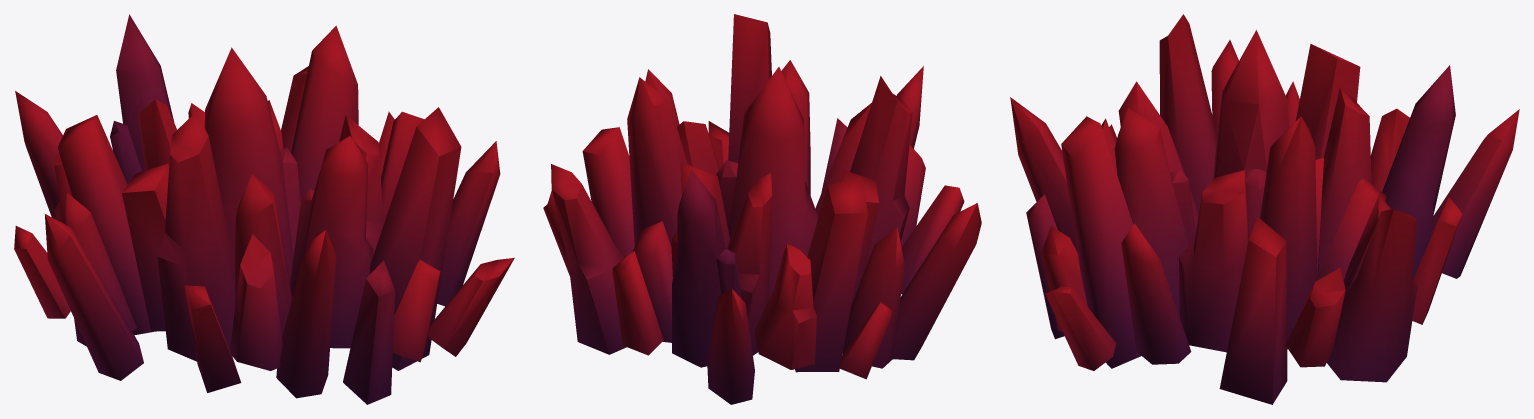
File: ZLP_Crystalk_B_2.FBX
The picture shows the model from 3 angles, left to right: view 1: azimuth 30°, elevation 25°; view 2: azimuth 150°, elevation 25°; view 3: azimuth 270°, elevation 25°; orthographic projection. The views are drawn at different scales.
Parts seen in each view (by area): view 1: ZLP_Crystalk_B_2; view 2: ZLP_Crystalk_B_2; view 3: ZLP_Crystalk_B_2.
Part boxes in pixels (<box>): ZLP_Crystalk_B_2: <box>14,14,514,404</box>; ZLP_Crystalk_B_2: <box>543,14,981,404</box>; ZLP_Crystalk_B_2: <box>1010,14,1519,404</box>.
Size of the model in its own units: 300 by 204 by 323.
